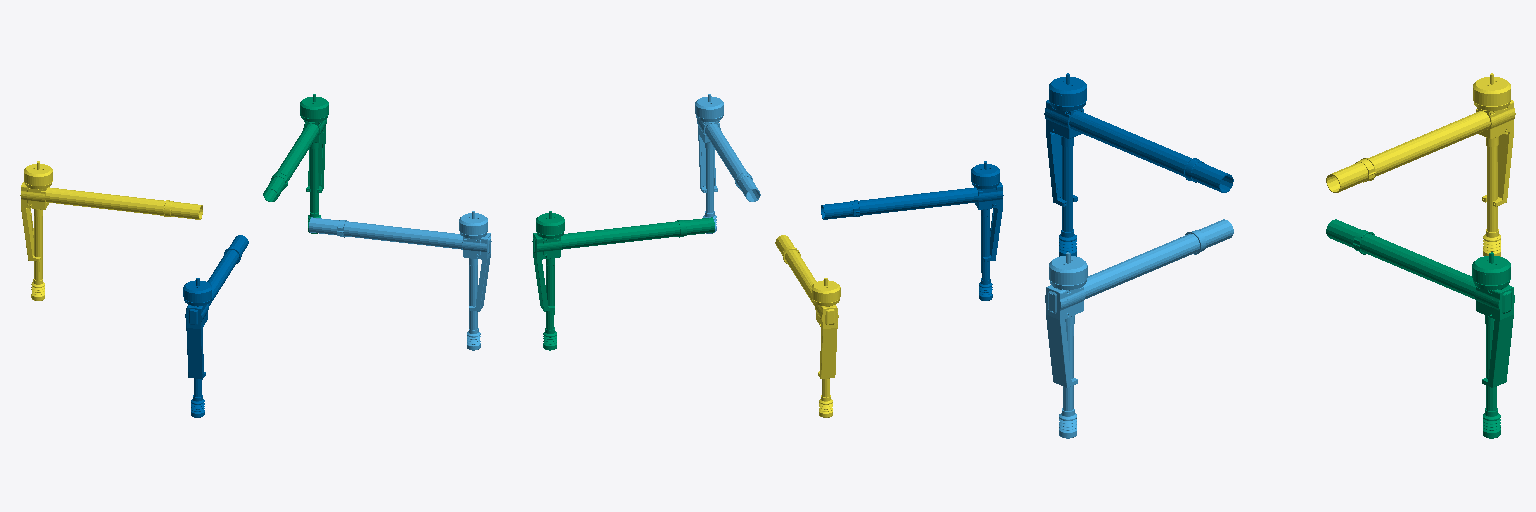
robot.urdf — m100:
<?xml version="1.0"?>

<robot name="m100">
  <link name = "base_link">
    <visual>
      <origin xyz="0 0 0" rpy="1.57 0 0"/>
      <geometry>
       <mesh filename="package://matrice100/mesh/met.STL" scale="4 4 4"/>
<!--<cylinder radius="0.2" length="0.4"/>-->
      </geometry>
    </visual>
  </link>

<joint name="leg1" type="fixed">
<parent link="base_link"/>
<child link="leg1"/>
<origin xyz="0.43 -0.63 -0.39"/>
</joint>

  <link name = "leg1">
    <visual>
	<origin xyz="0 0 0" rpy="1.57 0 0"/>
      <geometry>
       <mesh filename="package://matrice100/mesh/leg1.STL" scale="4 4 4"/>
      </geometry>
    </visual>
  </link>

<joint name="leg2" type="fixed">
<parent link="base_link"/>
<child link="leg2"/>
<origin xyz="0.43 -0.63 -0.39"/>
</joint>

  <link name = "leg2">
    <visual>
	<origin xyz="0 0 0" rpy="1.57 0 1.57"/>
      <geometry>
       <mesh filename="package://matrice100/mesh/leg1.STL" scale="4 4 4"/>
      </geometry>
    </visual>
  </link>


<joint name="leg3" type="fixed">
<parent link="base_link"/>
<child link="leg3"/>
<origin xyz="0.43 -0.63 -0.39"/>
</joint>

  <link name = "leg3">
    <visual>
	<origin xyz="0 0 0" rpy="1.57 0 3.14 "/>
      <geometry>
       <mesh filename="package://matrice100/mesh/leg1.STL" scale="4 4 4"/>
      </geometry>
    </visual>
  </link>

<joint name="leg4" type="fixed">
<parent link="base_link"/>
<child link="leg4"/>
<origin xyz="0.43 -0.63 -0.39"/>
</joint>

  <link name = "leg4">
    <visual>
	<origin xyz="0 0 0" rpy="1.57 0 -1.57 "/>
      <geometry>
       <mesh filename="package://matrice100/mesh/leg1.STL" scale="4 4 4"/>
      </geometry>
    </visual>
  </link>

</robot>

--- Facts derived from the render (not from the file) ---
The picture shows the robot from 3 angles, left to right: view 1: azimuth 30°, elevation 25°; view 2: azimuth 150°, elevation 25°; view 3: azimuth 270°, elevation 25°; orthographic projection.
Robot: m100 — 5 links, 4 joints (4 fixed); root link base_link; default pose: every joint at zero.
Links seen in each view (by area): view 1: leg3, leg1, leg4, leg2; view 2: leg4, leg2, leg3, leg1; view 3: leg1, leg2, leg3, leg4.
Link boxes in pixels (bbox=[...]): leg3: bbox=[20, 161, 202, 300]; leg1: bbox=[309, 211, 491, 350]; leg4: bbox=[183, 235, 248, 417]; leg2: bbox=[263, 94, 328, 233]; leg4: bbox=[821, 161, 1003, 300]; leg2: bbox=[532, 211, 714, 350]; leg3: bbox=[775, 235, 840, 417]; leg1: bbox=[695, 94, 760, 233]; leg1: bbox=[1045, 219, 1233, 438]; leg2: bbox=[1326, 219, 1514, 438]; leg3: bbox=[1326, 73, 1515, 256]; leg4: bbox=[1044, 73, 1233, 256].
Bounding box of the posed robot: 2.04 × 2.04 × 0.8732 m (x, y, z).
Meshes: 2 distinct files referenced, 4 mesh visuals loaded (1 binary STL); not drawn: 1 (reference not matched to a file when rendering).